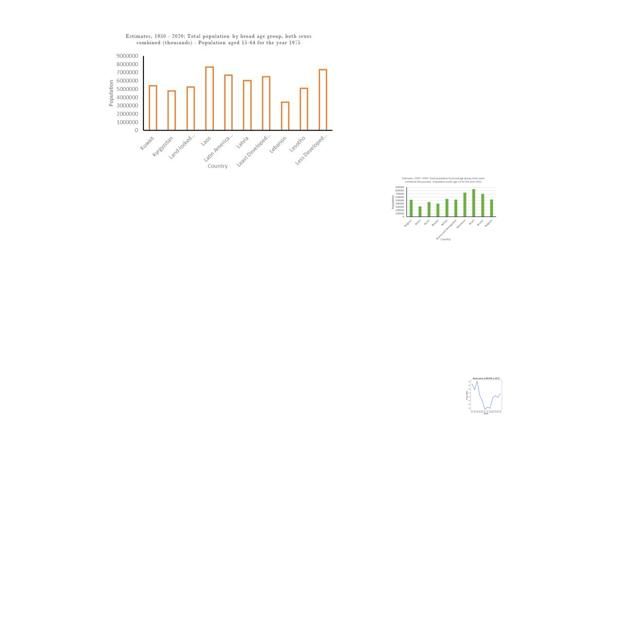Graph: (101, 29, 336, 171), (388, 175, 498, 241), (459, 375, 512, 415)
